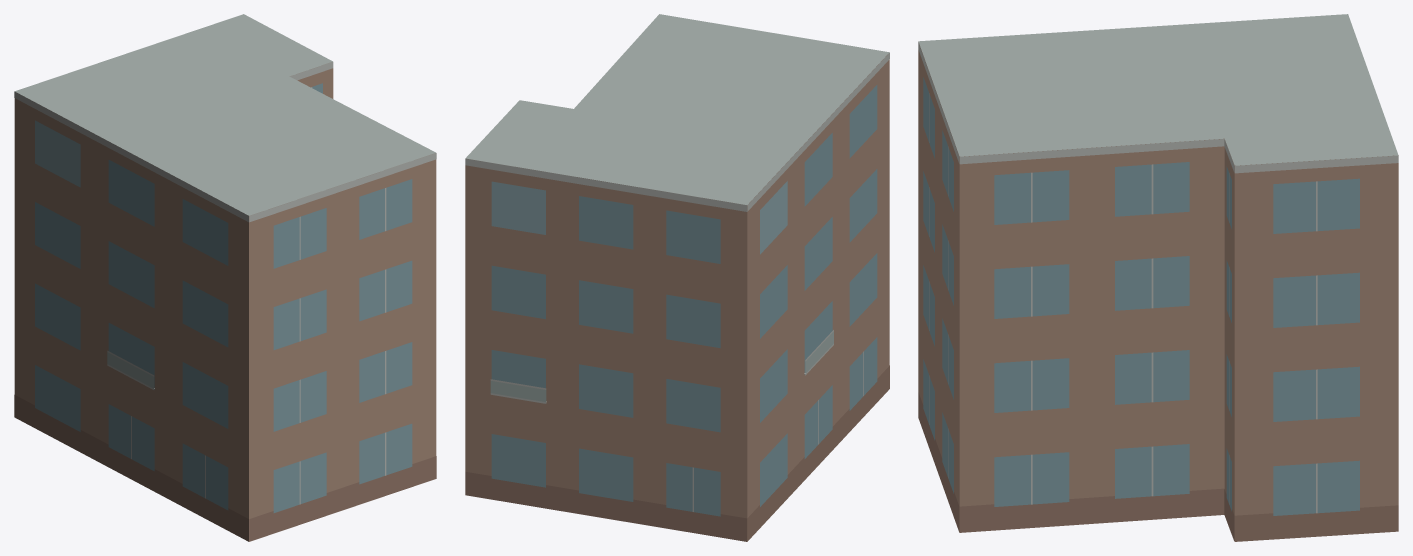
Rendered from survey-upis-32719350.glb.
3 views of the same model, side by side, from view 1: azimuth 30°, elevation 25°; view 2: azimuth 150°, elevation 25°; view 3: azimuth 270°, elevation 25° (orthographic). The views are drawn at different scales.
Parts seen in each view (by area): view 1: survey-upis-32719350.tmp; view 2: survey-upis-32719350.tmp; view 3: survey-upis-32719350.tmp.
Part boxes in pixels (left/top/right/bottom): survey-upis-32719350.tmp: left=14, top=14, right=436, bottom=541; survey-upis-32719350.tmp: left=465, top=14, right=889, bottom=541; survey-upis-32719350.tmp: left=918, top=14, right=1398, bottom=541.
Size of the model in its own units: 10.44 by 12.05 by 13.96.
